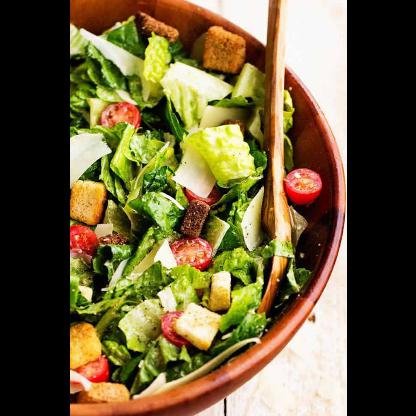salad: (69, 15, 321, 400)
